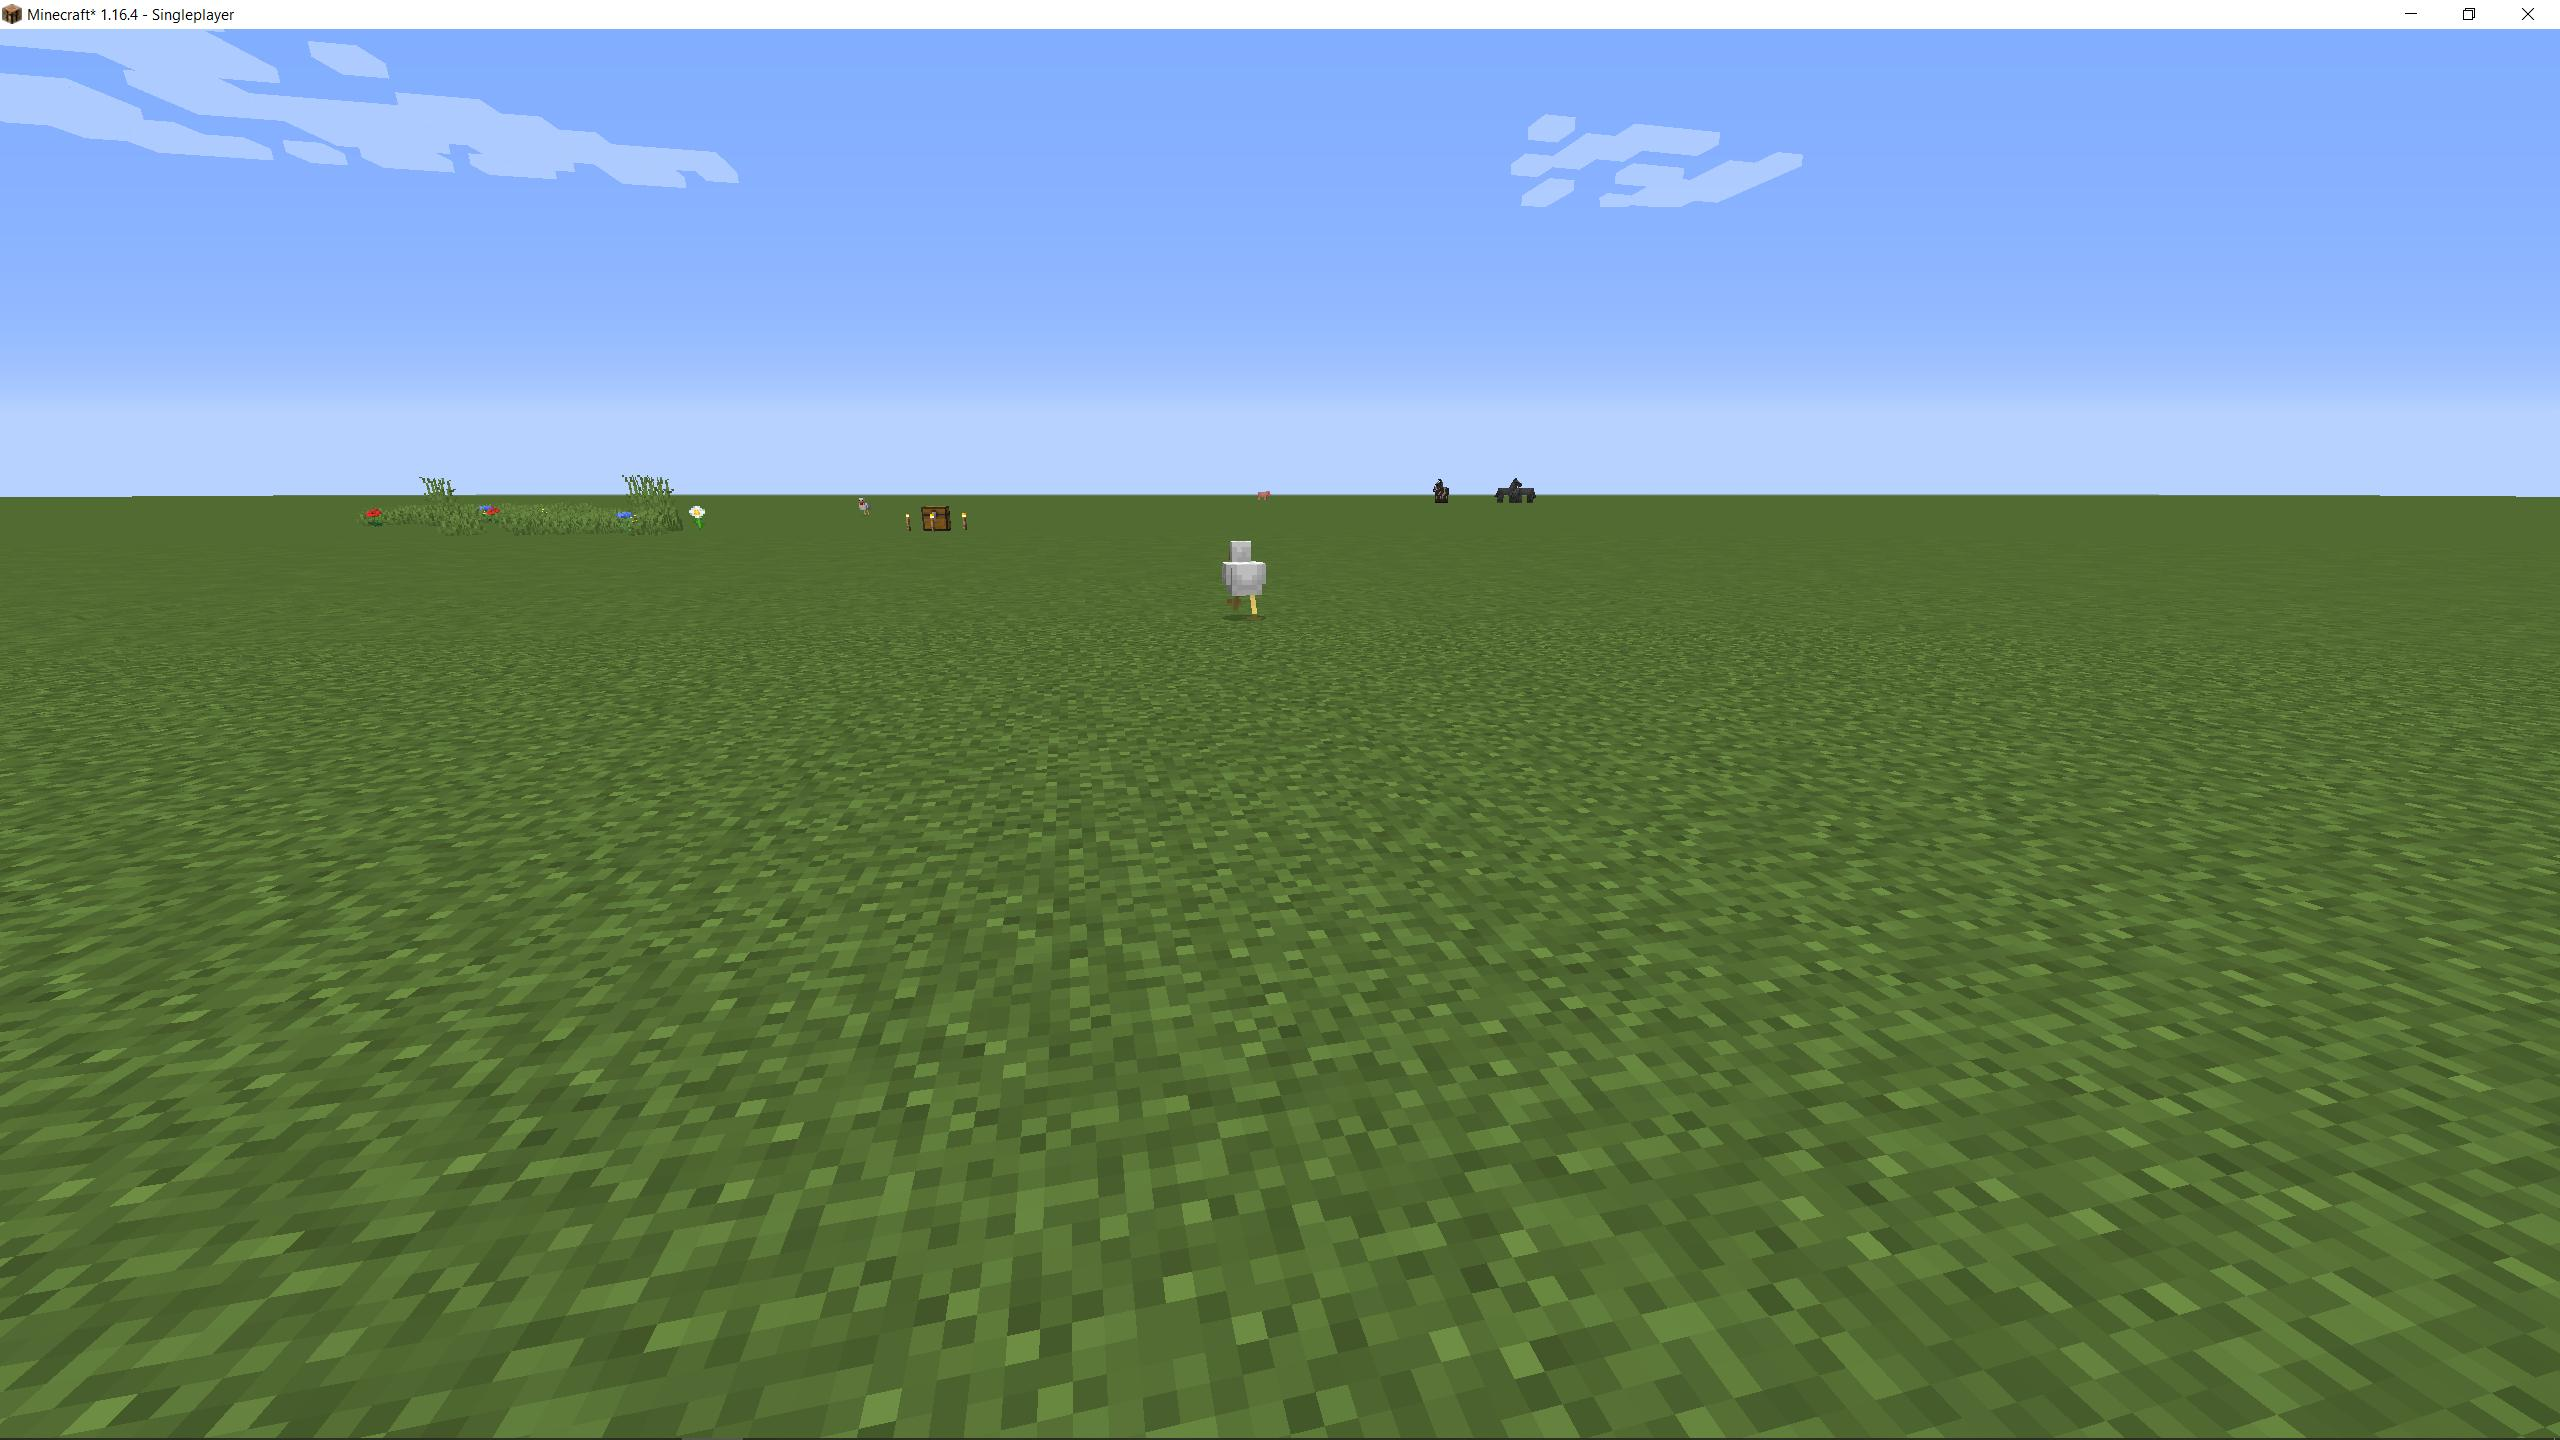chicken: (1215, 538, 1271, 622)
